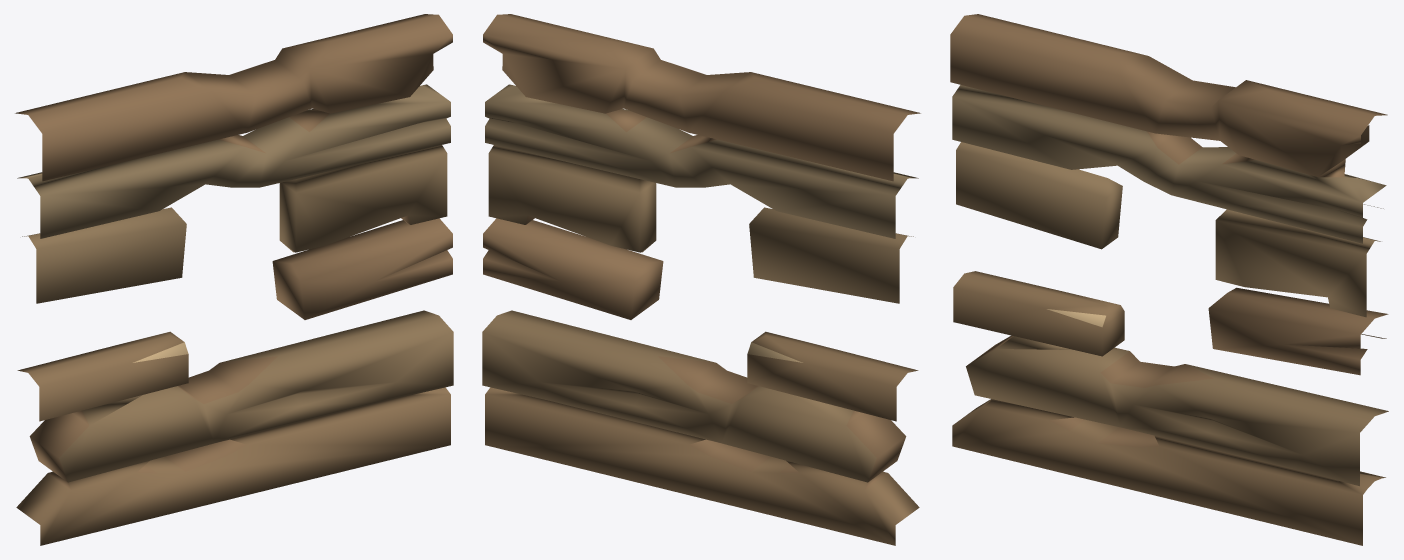
Rendered from rpgpp_av_wall_01_3x3_window_03a.gltf.
The picture shows the model from 3 angles, left to right: view 1: azimuth 30°, elevation 25°; view 2: azimuth 150°, elevation 25°; view 3: azimuth 330°, elevation 25°; orthographic projection.
Parts seen in each view (by area): view 1: rpgpp_av_wall_01_3x3_window_03a; view 2: rpgpp_av_wall_01_3x3_window_03a; view 3: rpgpp_av_wall_01_3x3_window_03a.
Boxes of the visible parts, box(x1,y1,x2,y2) form: rpgpp_av_wall_01_3x3_window_03a: box(15, 14, 453, 545); rpgpp_av_wall_01_3x3_window_03a: box(482, 14, 920, 545); rpgpp_av_wall_01_3x3_window_03a: box(950, 14, 1388, 545).
Size of the model in its own units: 0.03 by 0.03 by 0.00374.
1 material, 1 textured.
